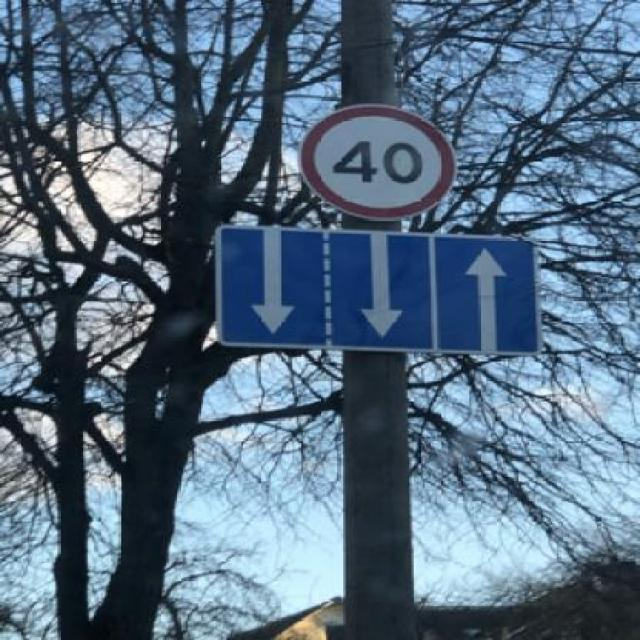forb_speed_over_40: (302, 106, 458, 220)
